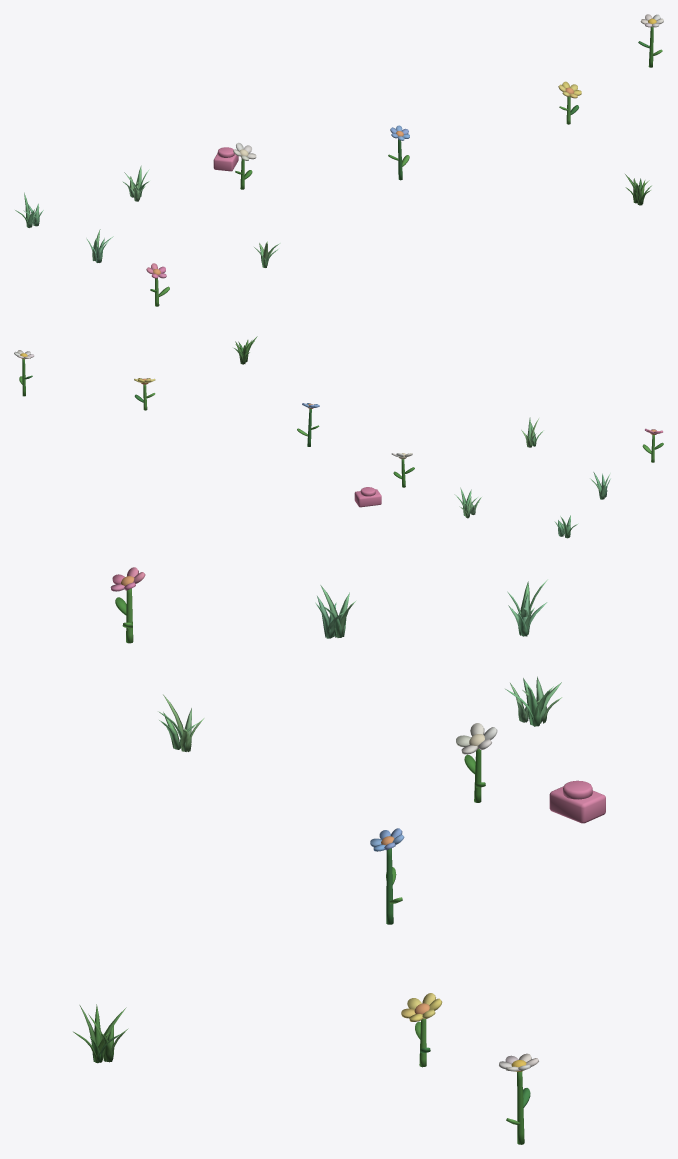
Rendered from W1_FloraRing_10_12.fbx.
3 renders of one model, top to bottom at view 1: azimuth 30°, elevation 25°; view 2: azimuth 150°, elevation 25°; view 3: azimuth 270°, elevation 25°, orthographic. The views are drawn at different scales.
Parts seen in each view (by area): view 1: W1_FloraRing_10_12; view 2: W1_FloraRing_10_12; view 3: W1_FloraRing_10_12.
Boxes of the visible parts, bbox=[...] form: W1_FloraRing_10_12: bbox=[15, 14, 663, 306]; W1_FloraRing_10_12: bbox=[14, 336, 663, 538]; W1_FloraRing_10_12: bbox=[73, 567, 605, 1144].
Bounding box in the file's own units: 2.97 × 0.2903 × 1.21.
